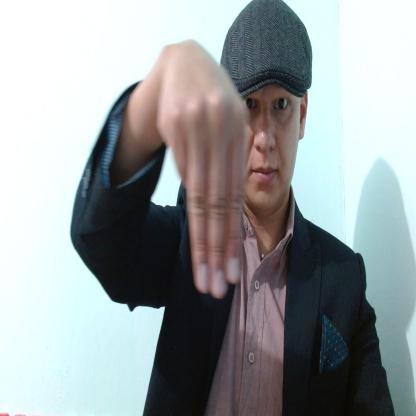M: (158, 41, 250, 298)
